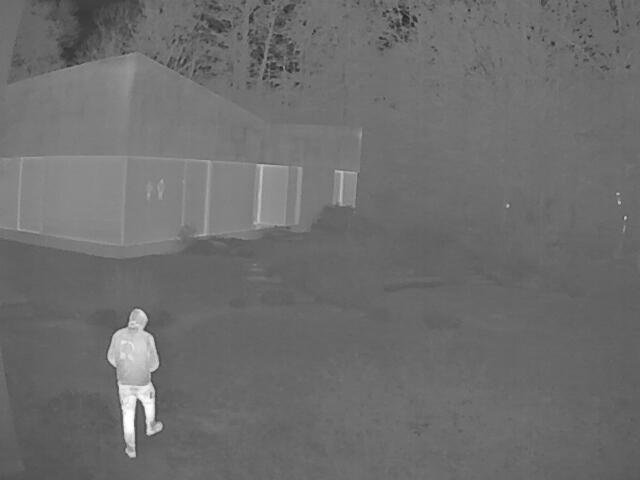person: (107, 307, 162, 458), (154, 176, 164, 199), (144, 178, 151, 200)
